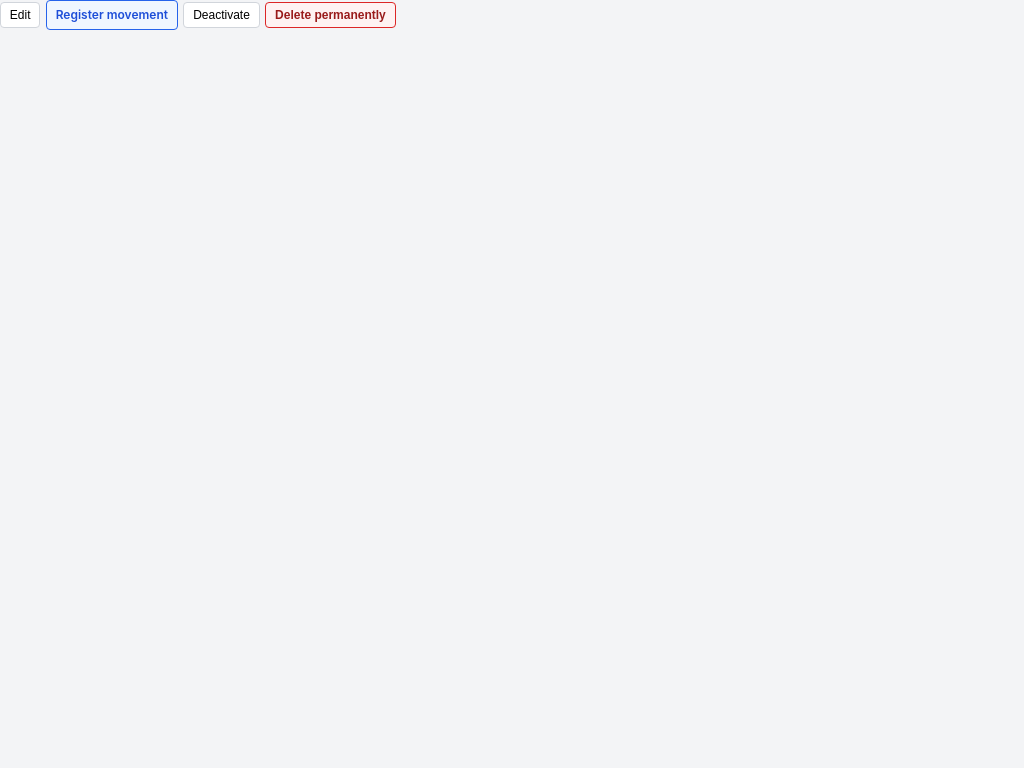
Test: ProductRowActions › shows a confirmation modal before deactivating
This screenshot has width=1024, height=768.
Click the button "Deactivate" at (222, 15), box [183,2,260,28]
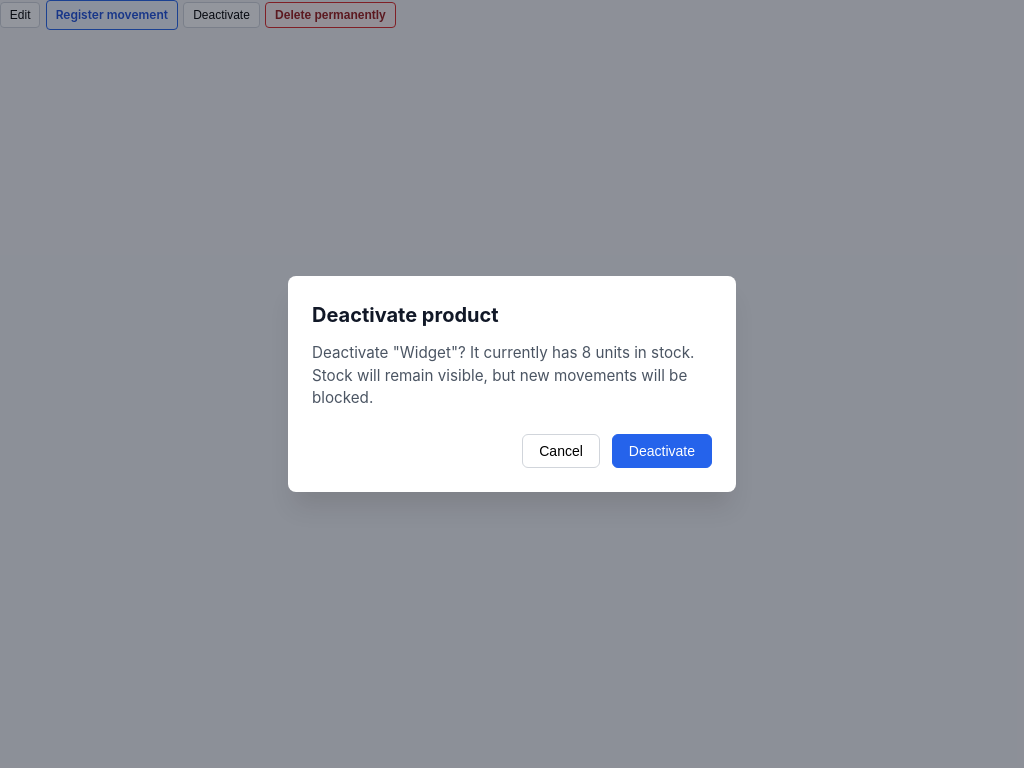
Expected: the dialog is shown, [288,276,736,492]
Expected: the text "8 units in stock" is shown, [312,343,694,407]
